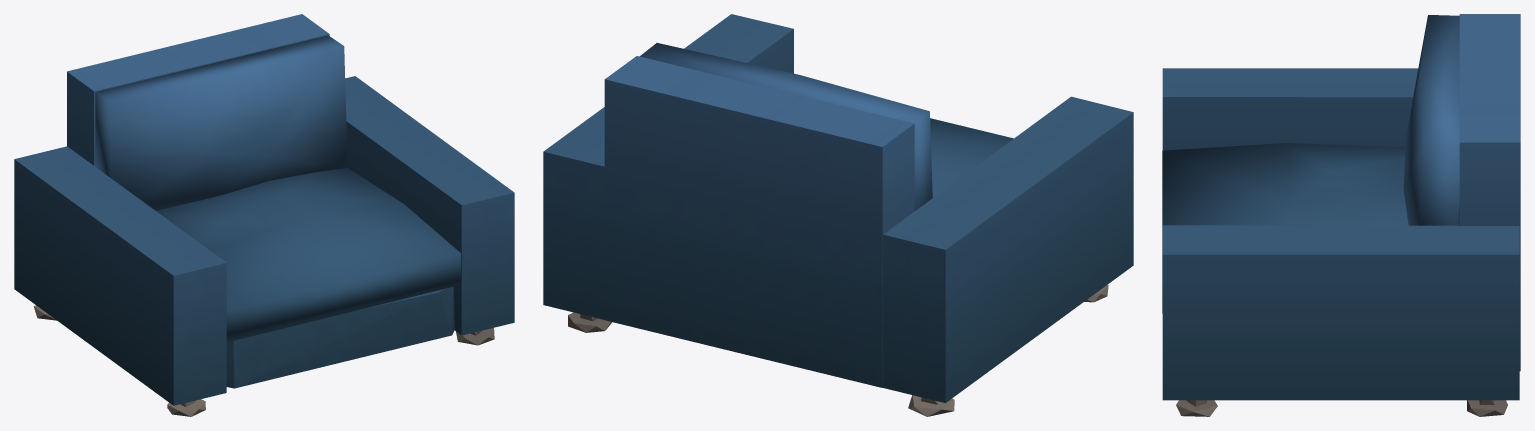
The model's file is SM_Sofa.fbx.
3 views of the same model, side by side, from view 1: azimuth 30°, elevation 25°; view 2: azimuth 150°, elevation 25°; view 3: azimuth 270°, elevation 25° (orthographic). The views are drawn at different scales.
Visible parts, largest first — view 1: Cube.001; view 2: Cube.001; view 3: Cube.001.
Part boxes in pixels (<box>): Cube.001: <box>14,14,514,416</box>; Cube.001: <box>543,14,1133,416</box>; Cube.001: <box>1162,14,1520,416</box>.
Size of the model in its own units: 1.8 by 1.13 by 1.46.
